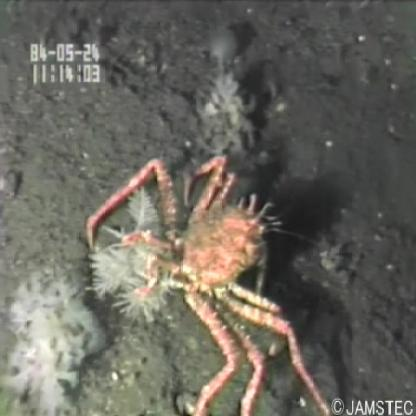Bio: (79, 149, 334, 416)
